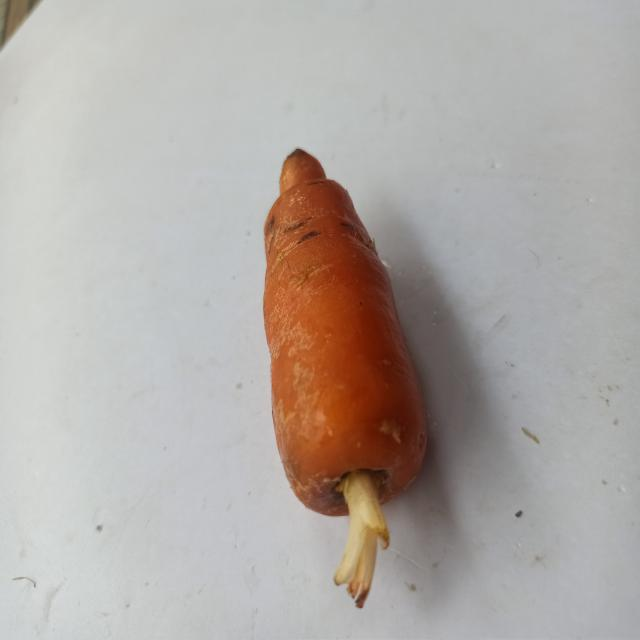Carrot: (239, 127, 441, 626)
